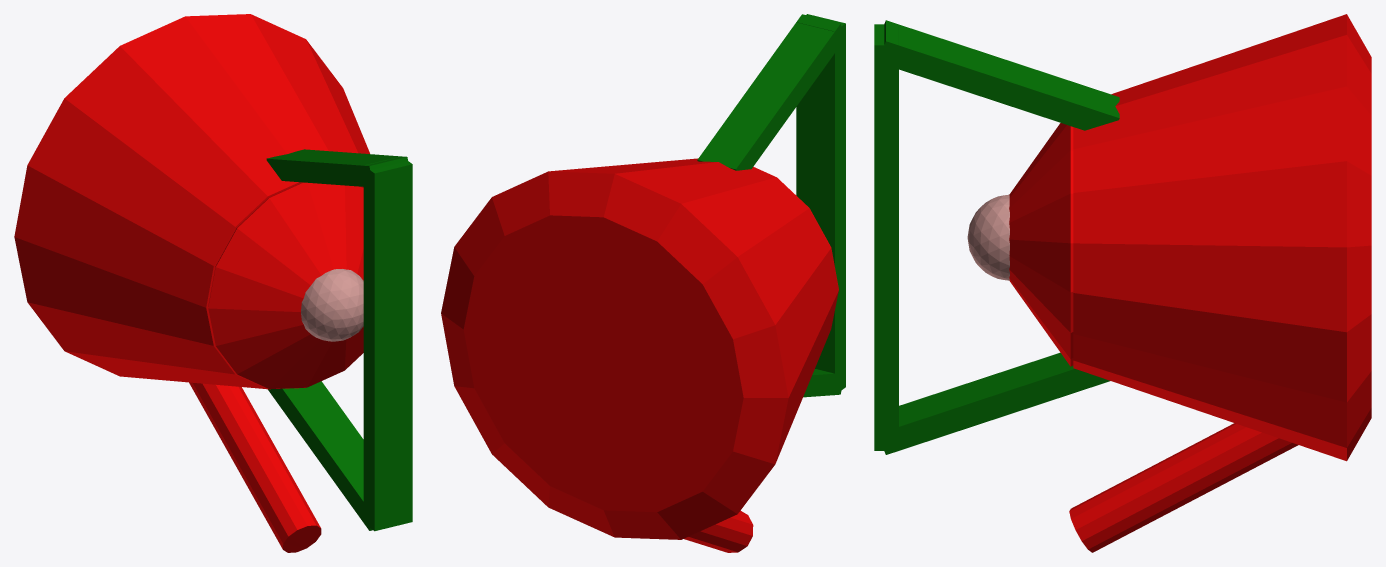
Rendered from _kettle-bodyset2.glb.
The picture shows the model from 3 angles, left to right: view 1: azimuth 30°, elevation 25°; view 2: azimuth 150°, elevation 25°; view 3: azimuth 270°, elevation 25°; orthographic projection. The views are drawn at different scales.
Size of the model in its own units: 0.18 by 0.2305 by 0.2.
